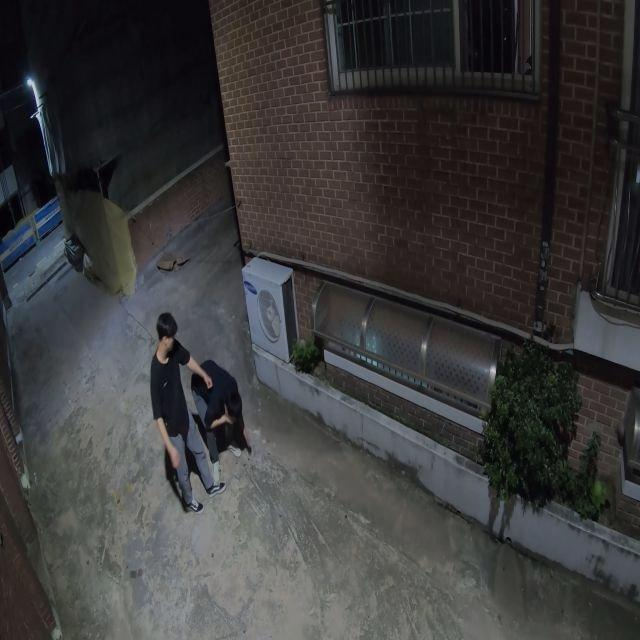fight: (148, 309, 252, 514)
